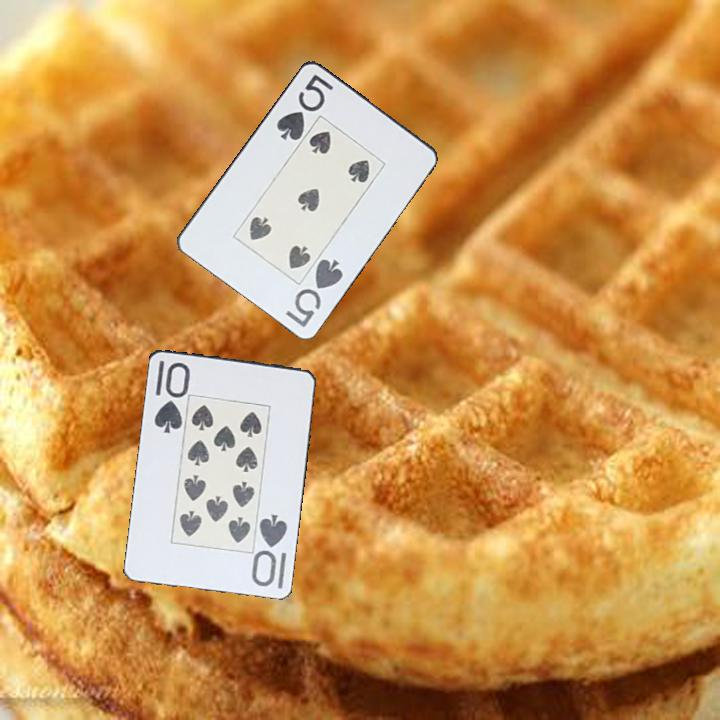5s: (282, 254, 346, 330), (273, 70, 336, 143)
Ts: (249, 510, 290, 592), (150, 356, 190, 436)
